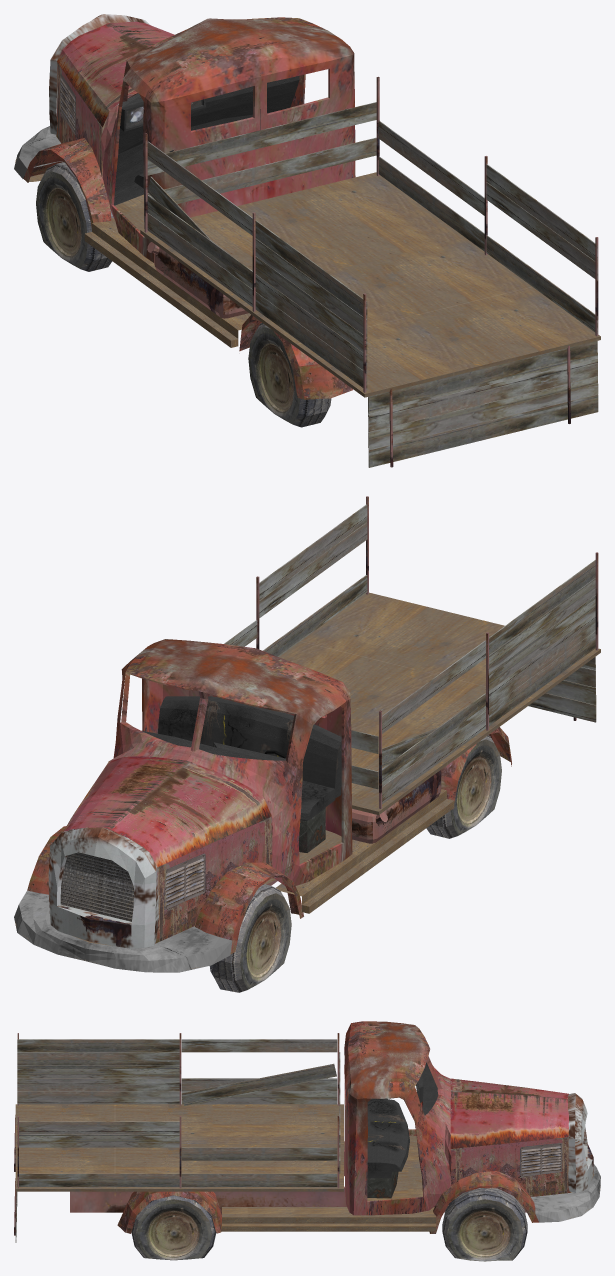
The model's file is truck.obj.
The picture shows the model from 3 angles, top to bottom: view 1: azimuth 30°, elevation 25°; view 2: azimuth 150°, elevation 25°; view 3: azimuth 270°, elevation 25°; orthographic projection. The views are drawn at different scales.
Visible parts, largest first — view 1: Truck; view 2: Truck; view 3: Truck.
Part boxes in pixels (x1,y1,x2,y2): Truck: (14, 14, 600, 467); Truck: (14, 496, 600, 992); Truck: (14, 1021, 600, 1261).
Size of the model in its own units: 2.26 by 2.28 by 6.64.
